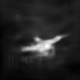plane: (20, 32, 69, 59)
